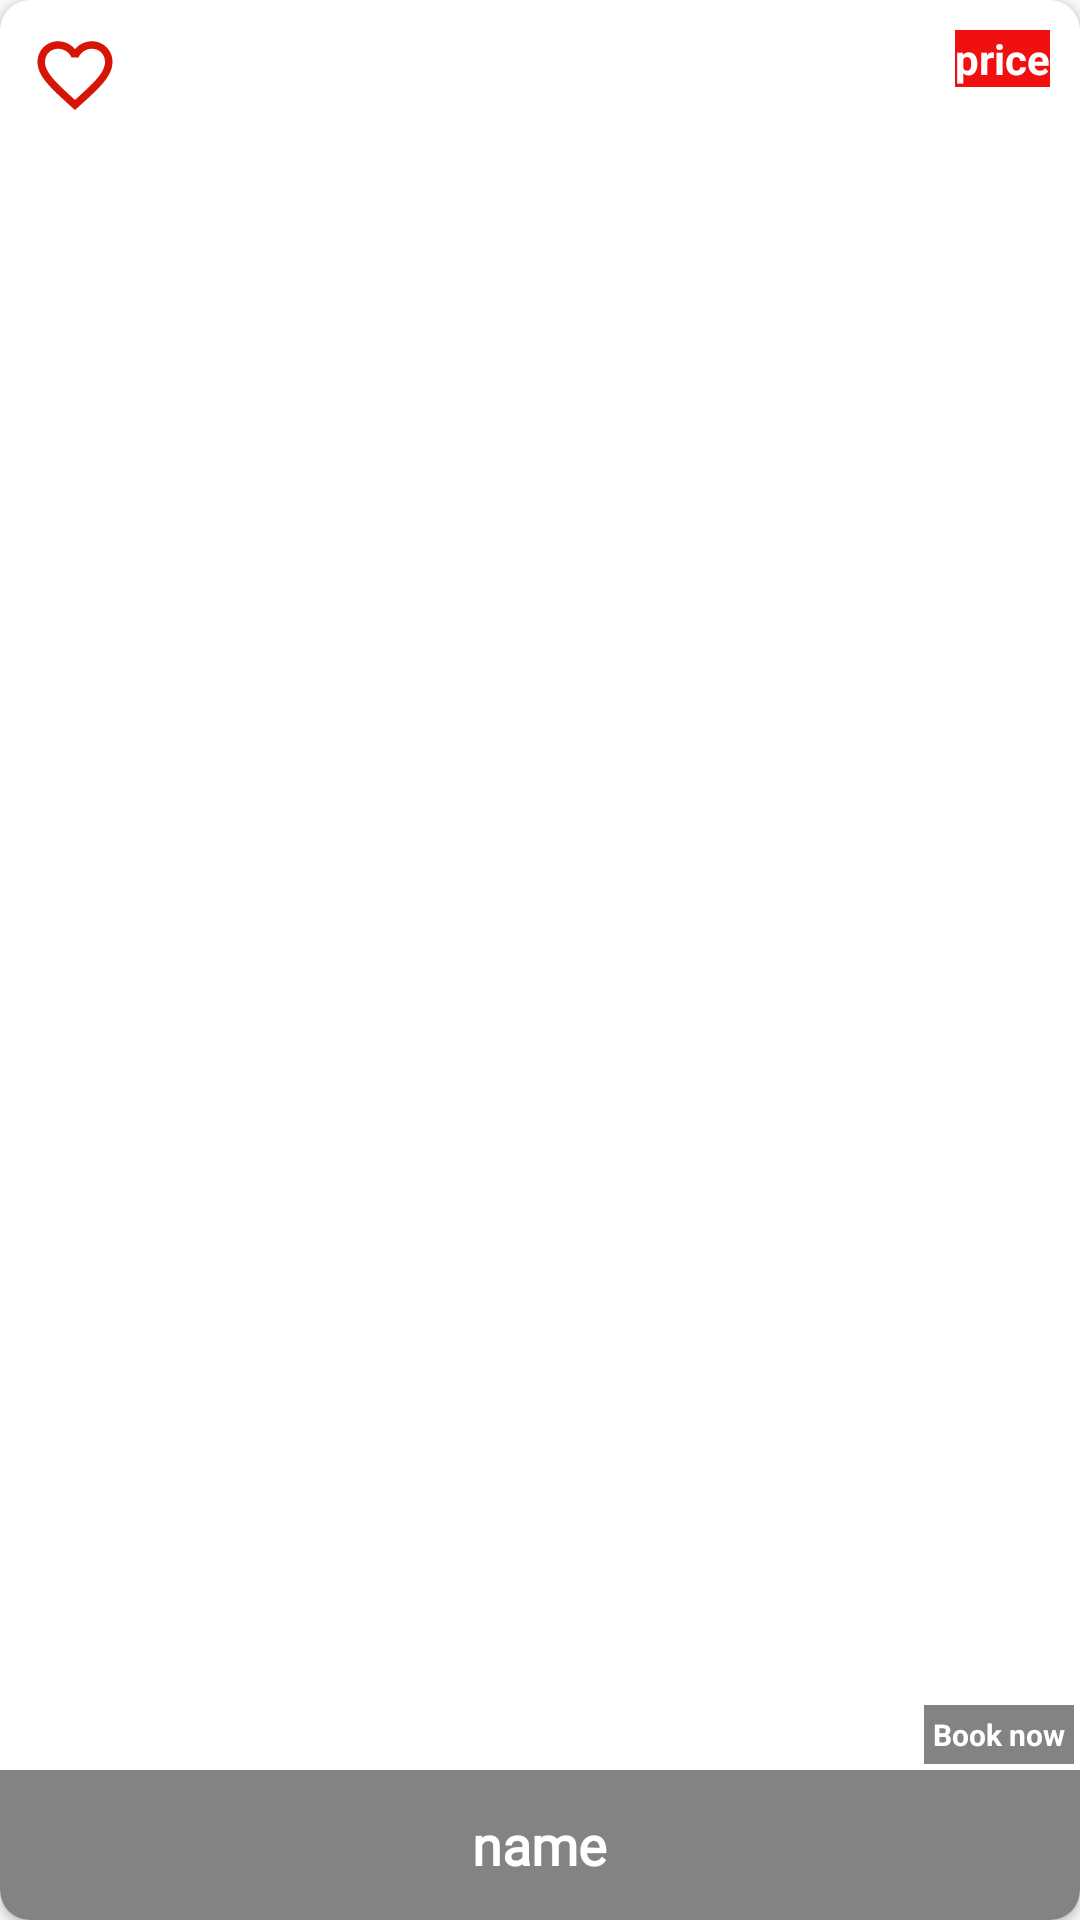

Icons on this 1080 × 1920 Android screen, each with the point to tap as (x=x, y=y):
favorite border: (x=75, y=75)
